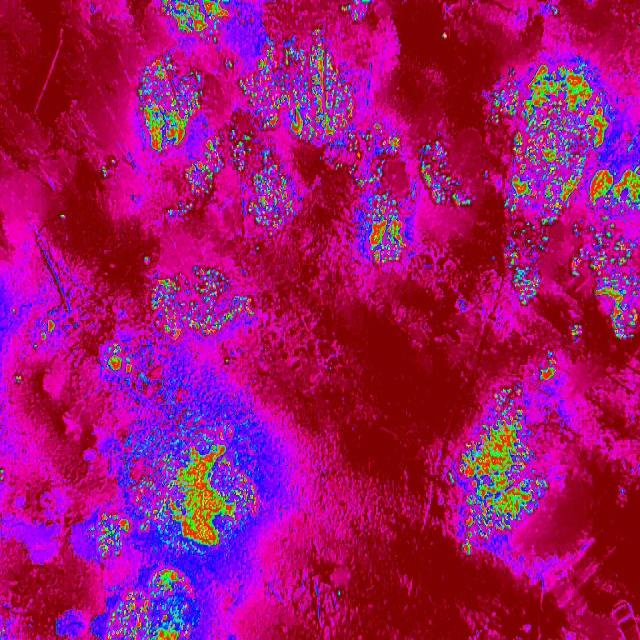fire: (86, 377, 270, 565), (487, 59, 612, 210), (445, 384, 551, 555), (256, 28, 366, 148), (571, 211, 640, 343), (152, 262, 254, 342), (103, 567, 202, 640), (135, 52, 204, 153), (504, 208, 556, 308), (357, 188, 407, 263), (419, 138, 472, 208), (255, 146, 298, 232), (162, 0, 232, 38), (611, 120, 640, 210), (334, 148, 388, 182), (184, 153, 224, 192), (98, 342, 136, 378), (228, 128, 254, 168), (366, 122, 402, 150), (538, 350, 562, 382), (341, 0, 373, 22), (237, 74, 256, 107), (168, 200, 194, 218), (40, 318, 56, 342), (542, 2, 559, 20), (244, 197, 256, 217), (205, 138, 221, 152), (100, 165, 109, 183), (0, 463, 6, 486), (12, 373, 24, 383), (254, 242, 263, 254), (441, 30, 450, 40), (335, 588, 344, 598), (225, 61, 236, 69), (59, 211, 67, 221), (110, 156, 116, 169), (11, 305, 18, 316), (222, 358, 230, 367), (32, 341, 38, 351), (144, 257, 150, 267), (211, 38, 220, 43)
